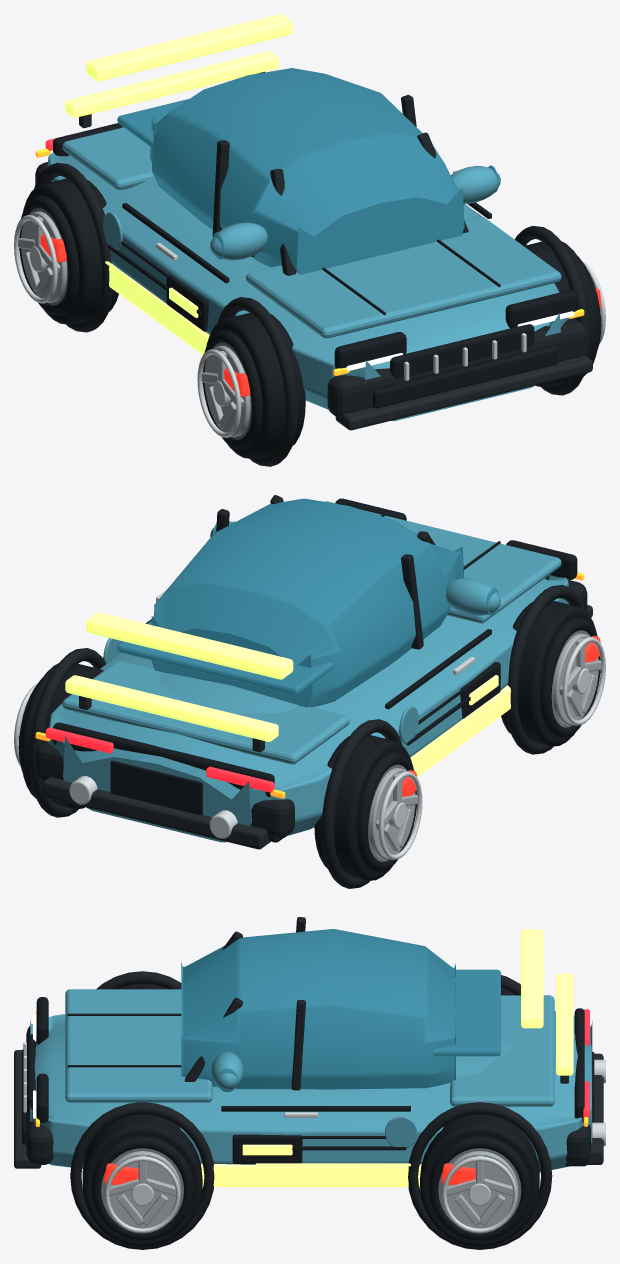
The model's file is hatch.glb.
3 renders of one model, top to bottom at view 1: azimuth 30°, elevation 25°; view 2: azimuth 150°, elevation 25°; view 3: azimuth 270°, elevation 25°, orthographic. The views are drawn at different scales.
Parts seen in each view (by area): view 1: continuous smoked glass cabin.001, sculpted one-piece body shell.001, front hood skin.001, left wheel tire.002, compact roof spoiler, front bumper fascia.001, left wheel tire.003, rear spoiler blade.001, front carbon splitter.001, rear deck skin.001, lower front intake surround.001, upper front grille surround.001 (+20 smaller); view 2: continuous smoked glass cabin.001, sculpted one-piece body shell.001, rear deck skin.001, front hood skin.001, compact roof spoiler, left wheel tire.003, left wheel tire.002, rear spoiler blade.001, rear diffuser center.001, rear plate shadow recess.001, upright hatch glass, left rear fender arch bead.001 (+22 smaller); view 3: continuous smoked glass cabin.001, sculpted one-piece body shell.001, front hood skin.001, rear deck skin.001, right wheel tire.002, right wheel tire.003, right aerodynamic side sill.001, upright hatch glass, right rear fender arch bead.001, right front fender arch bead.001, right tire sidewall bead.003, right tire sidewall bead.002 (+28 smaller).
Boxes of the visible parts, box(x1,y1,x2,y2) form: continuous smoked glass cabin.001: box(149, 68, 464, 274); sculpted one-piece body shell.001: box(47, 135, 568, 421); front hood skin.001: box(245, 216, 561, 338); left wheel tire.002: box(206, 313, 305, 458); compact roof spoiler: box(86, 14, 293, 81); front bumper fascia.001: box(327, 319, 587, 417); left wheel tire.003: box(23, 178, 118, 324); rear spoiler blade.001: box(65, 51, 278, 117); front carbon splitter.001: box(335, 355, 592, 430); rear deck skin.001: box(62, 127, 153, 189); lower front intake surround.001: box(373, 346, 557, 408); upper front grille surround.001: box(390, 324, 534, 379); continuous smoked glass cabin.001: box(151, 498, 464, 707); sculpted one-piece body shell.001: box(47, 575, 568, 842); rear deck skin.001: box(62, 660, 349, 764); front hood skin.001: box(324, 501, 561, 623); compact roof spoiler: box(86, 612, 293, 679); left wheel tire.003: box(314, 735, 413, 880); left wheel tire.002: box(501, 600, 596, 746); rear spoiler blade.001: box(65, 675, 278, 741); rear diffuser center.001: box(42, 777, 270, 849); rear plate shadow recess.001: box(110, 760, 202, 815); upright hatch glass: box(117, 621, 334, 694); left rear fender arch bead.001: box(321, 719, 402, 888); continuous smoked glass cabin.001: box(181, 929, 455, 1089); sculpted one-piece body shell.001: box(30, 1011, 592, 1172); front hood skin.001: box(65, 989, 212, 1102); rear deck skin.001: box(450, 995, 554, 1106); right wheel tire.002: box(82, 1114, 202, 1246); right wheel tire.003: box(420, 1114, 539, 1246); right aerodynamic side sill.001: box(201, 1163, 421, 1186); upright hatch glass: box(432, 969, 500, 1056); right rear fender arch bead.001: box(408, 1102, 552, 1249); right front fender arch bead.001: box(70, 1102, 214, 1249); right tire sidewall bead.003: box(428, 1136, 530, 1240); right tire sidewall bead.002: box(91, 1136, 193, 1240).
Size of the model in its own units: 2.63 by 1.74 by 3.98.
